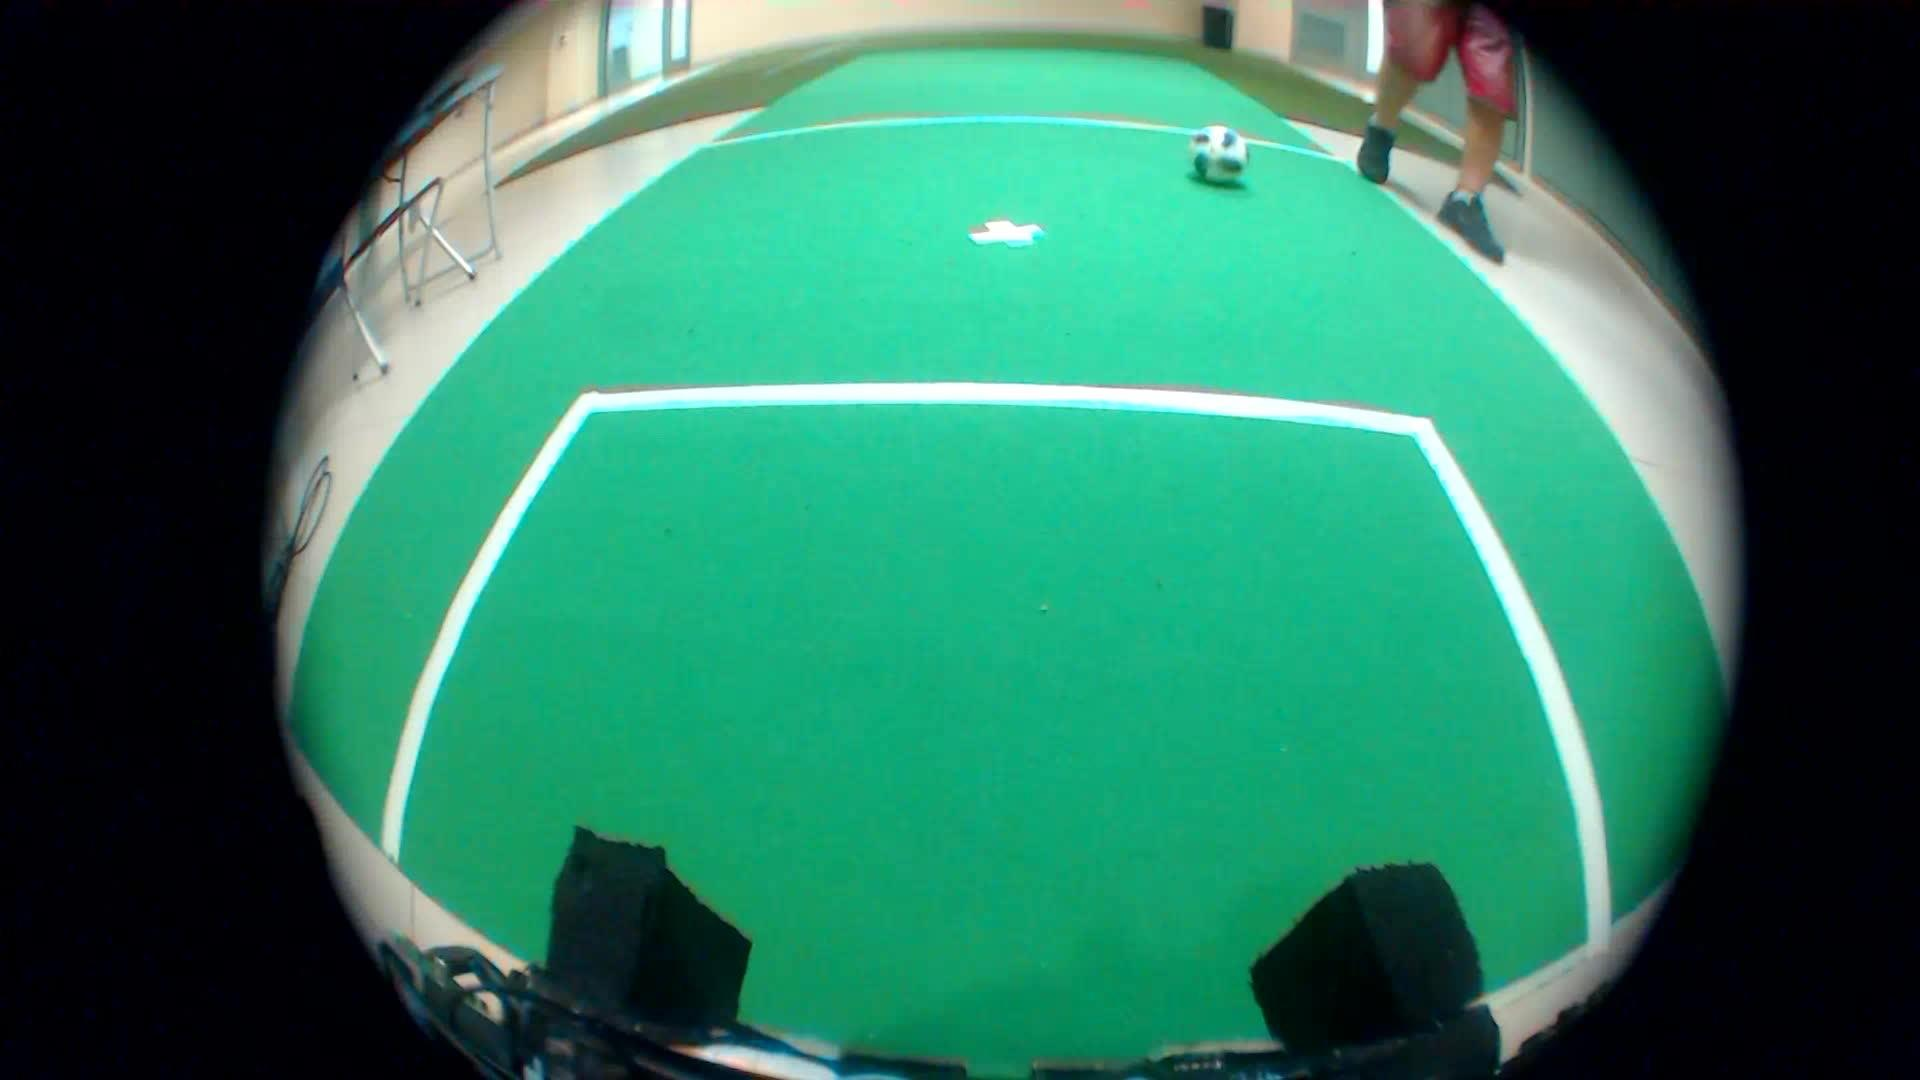ball: (1178, 105, 1258, 196)
